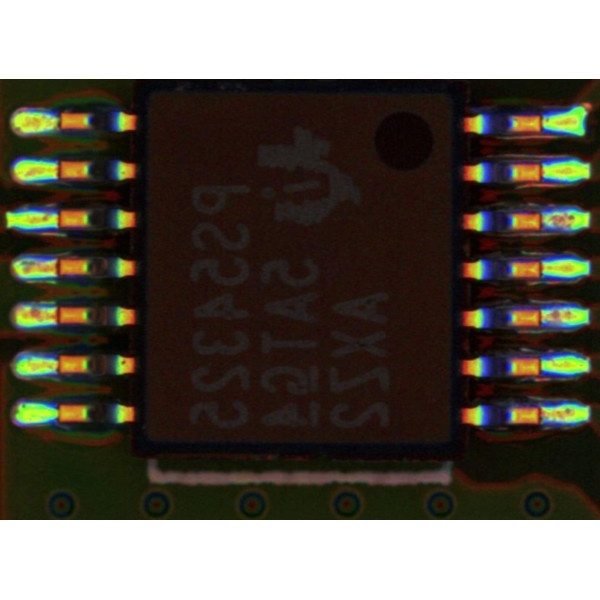Bad_podu: (43, 308, 67, 320), (531, 408, 555, 420), (43, 261, 68, 272)
